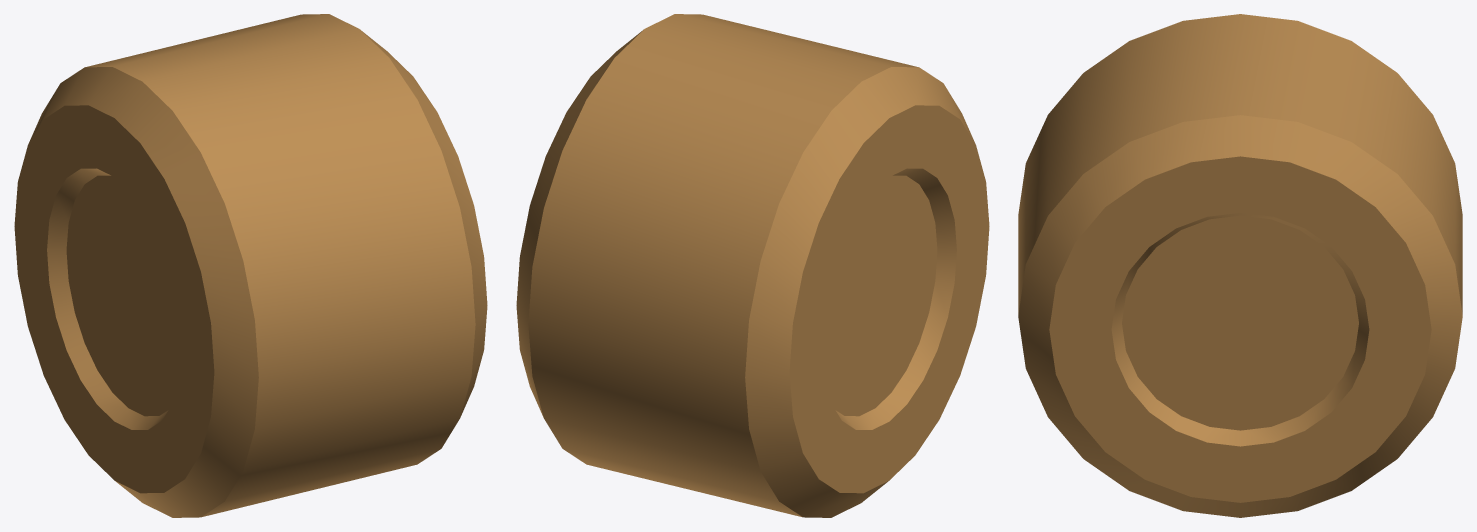
The model's file is LargeWheelHub.fbx.
The picture shows the model from 3 angles, left to right: view 1: azimuth 30°, elevation 25°; view 2: azimuth 150°, elevation 25°; view 3: azimuth 270°, elevation 25°; orthographic projection. The views are drawn at different scales.
Visible parts, largest first — view 1: LargeWheelHub_LOD0; view 2: LargeWheelHub_LOD0; view 3: LargeWheelHub_LOD0.
Boxes of the visible parts, x1,y1,x2,y2 form: LargeWheelHub_LOD0: (14,14,487,517); LargeWheelHub_LOD0: (516,14,989,517); LargeWheelHub_LOD0: (1018,14,1462,517).
Size of what is drawn, in the model's own units: 0.0507 by 0.0748 by 0.0748.
